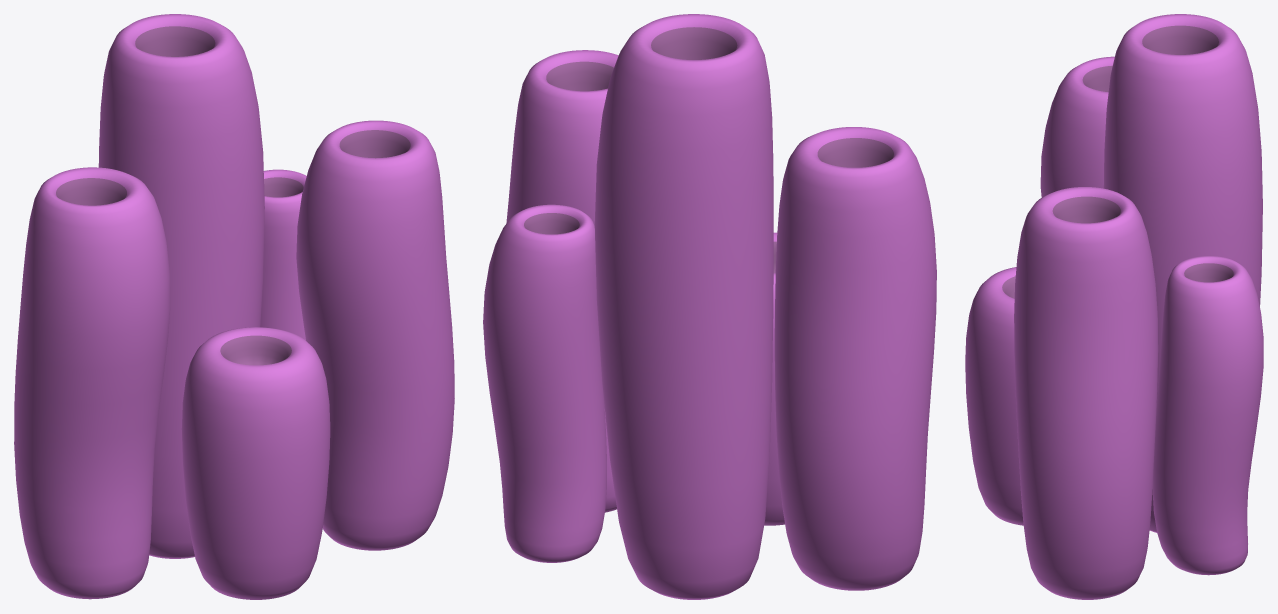
File: SmoothCoral1.fbx
3 renders of one model, left to right at view 1: azimuth 30°, elevation 25°; view 2: azimuth 150°, elevation 25°; view 3: azimuth 270°, elevation 25°, orthographic. The views are drawn at different scales.
Parts seen in each view (by area): view 1: pCylinder15; view 2: pCylinder15; view 3: pCylinder15.
Boxes of the visible parts, box(x1,y1,x2,y2) form: pCylinder15: box(14, 14, 454, 599); pCylinder15: box(483, 14, 936, 599); pCylinder15: box(965, 14, 1263, 599).
Bounding box in the file's own units: 3.51 × 4.19 × 2.35.
